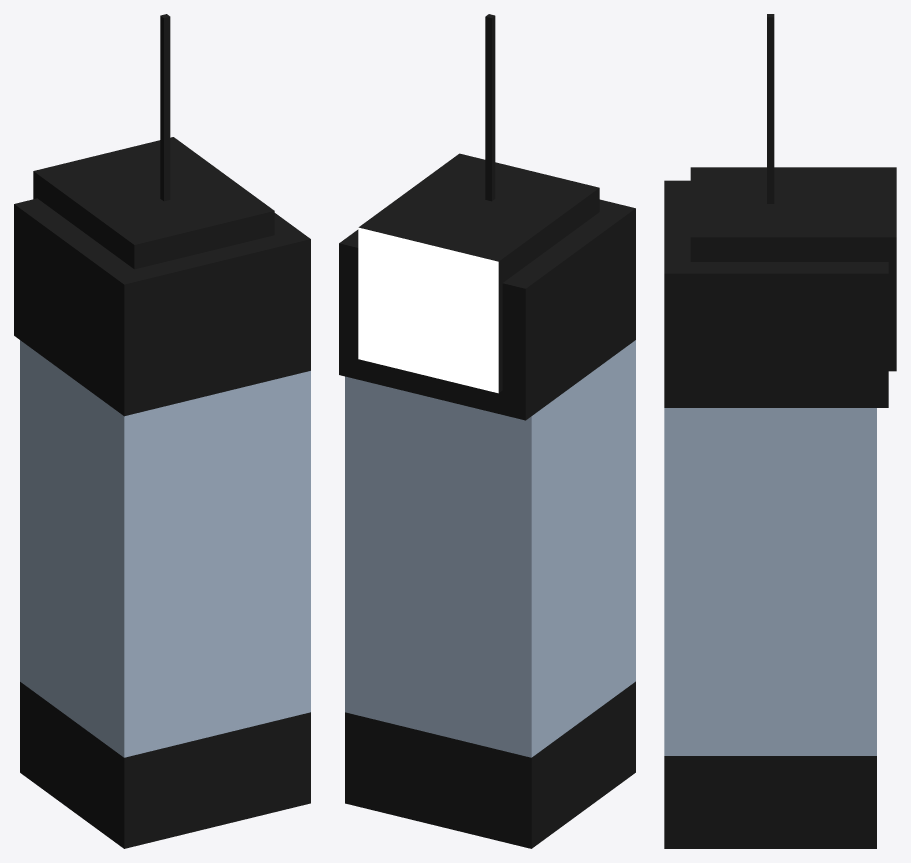
File: building5.glb
3 renders of one model, left to right at view 1: azimuth 30°, elevation 25°; view 2: azimuth 150°, elevation 25°; view 3: azimuth 270°, elevation 25°, orthographic.
Parts seen in each view (by area): view 1: Cube.004; view 2: Cube.004; view 3: Cube.004.
Boxes of the visible parts, x1,y1,x2,y2 form: Cube.004: [14, 14, 310, 848]; Cube.004: [339, 14, 635, 848]; Cube.004: [664, 14, 896, 848].
Bounding box in the file's own units: 3.21 × 12.7 × 3.4.
